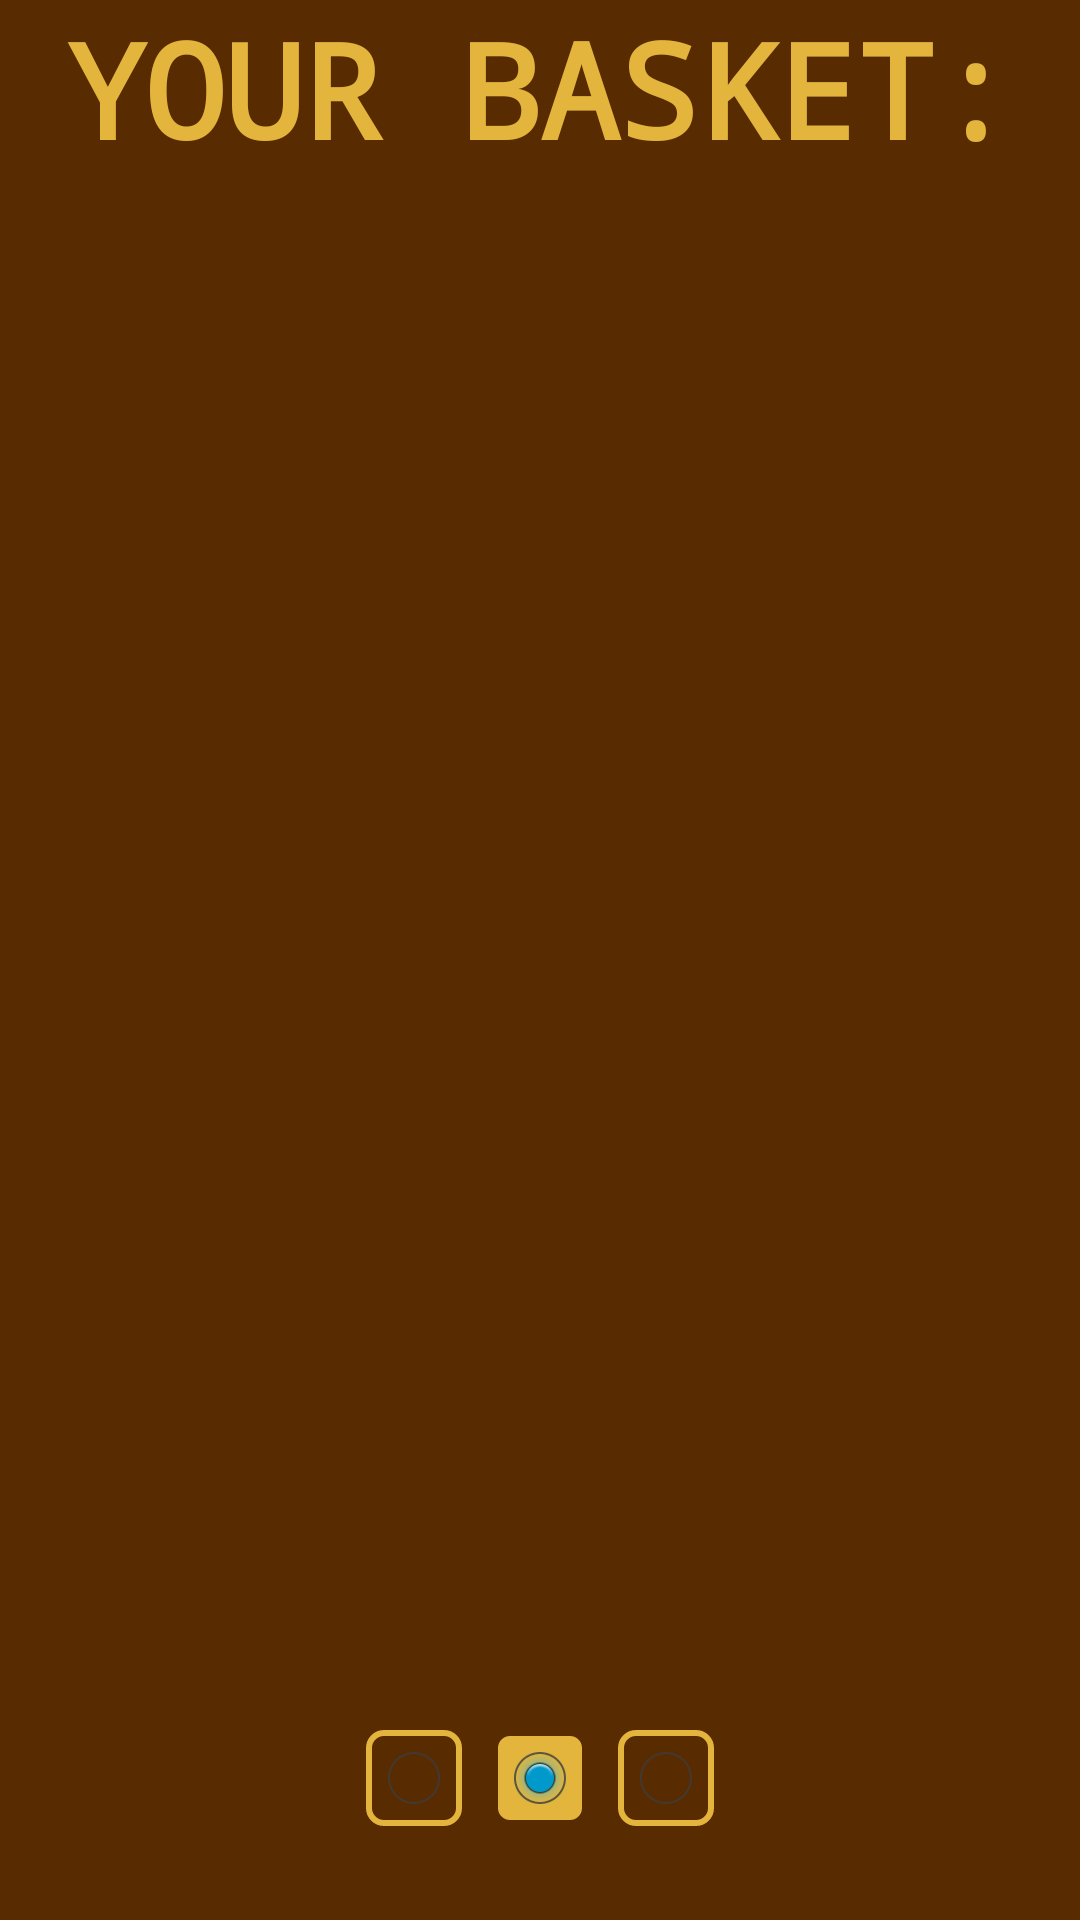

Named icons in this screenshot (1080px×1920px) and their centers, (x=x, y=y):
checkbox: (x=414, y=1778), (x=666, y=1778), (x=540, y=1778)
